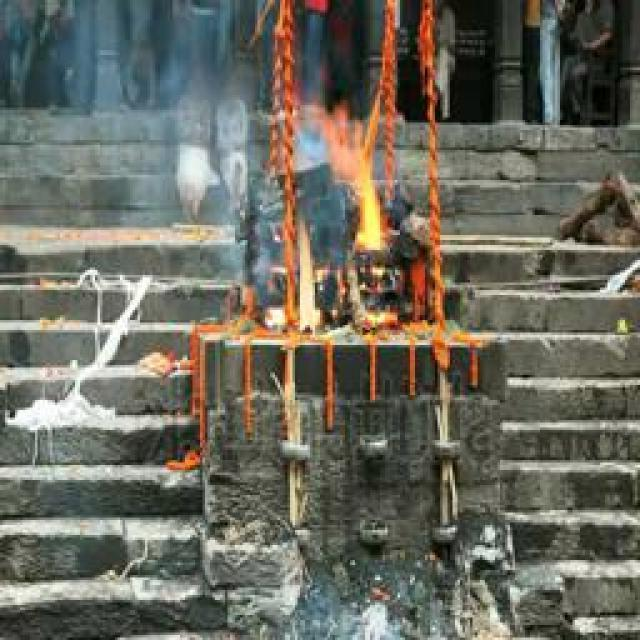Fire: (323, 102, 392, 255), (280, 217, 338, 331)
